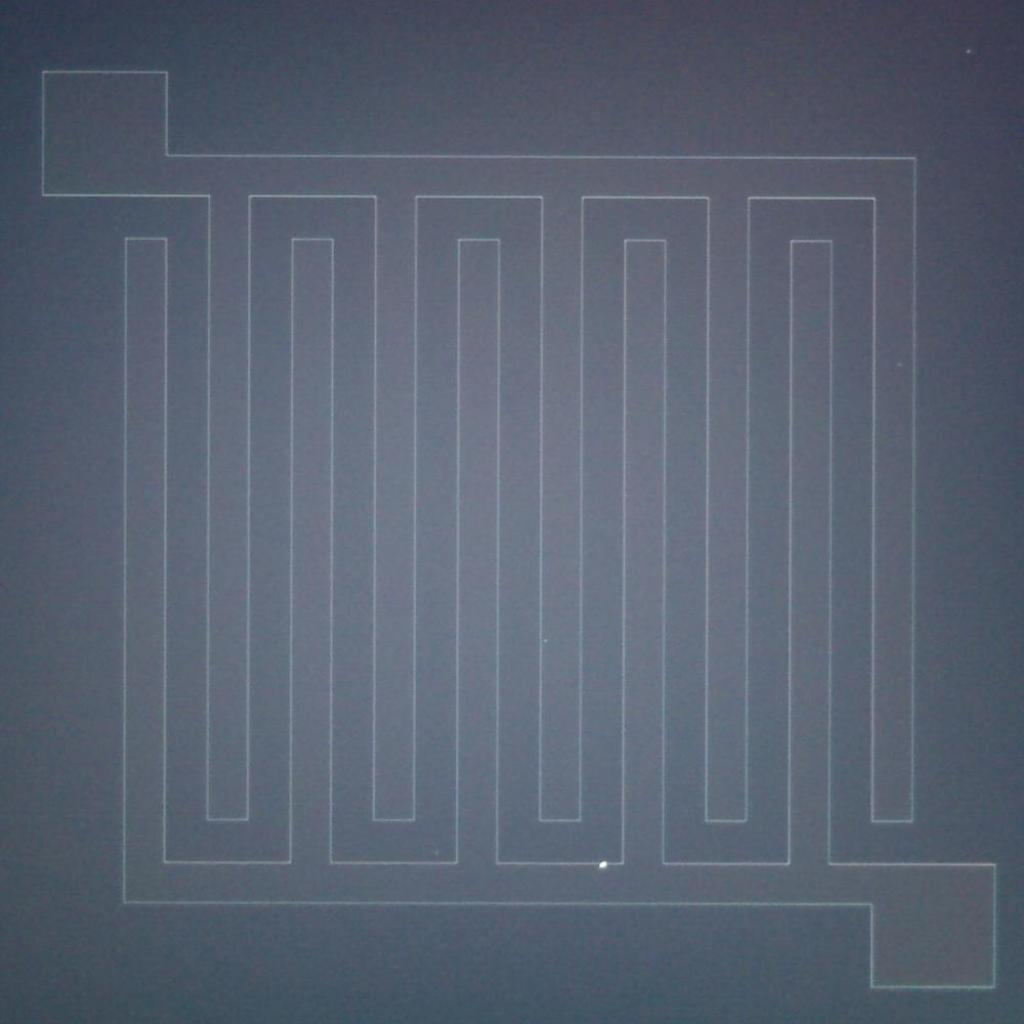dot: (600, 862, 606, 868), (543, 638, 548, 644), (898, 362, 902, 366), (966, 49, 970, 53), (435, 850, 438, 854)
